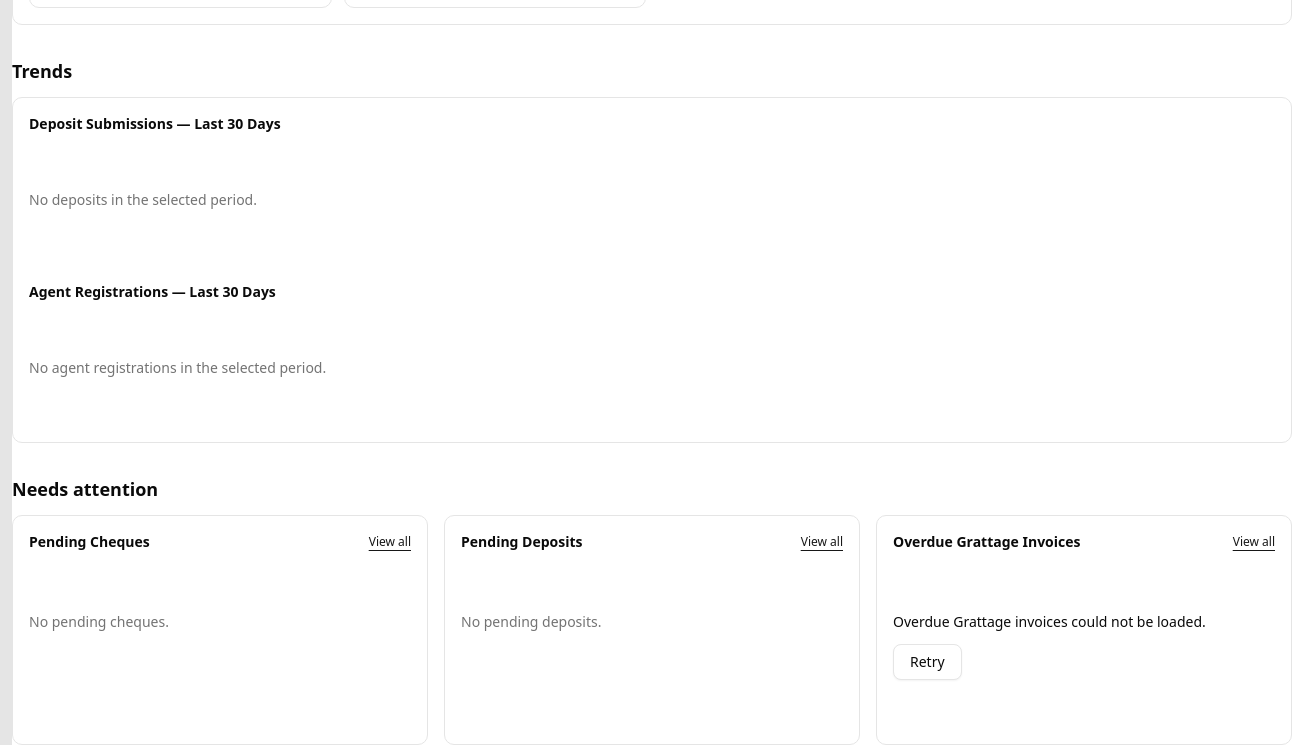
Test: Overdue Grattage Invoices widget › shows a retryable error state and recovers
(page scrolled)
What coordinates should you click on to do the following:
click the button "Retry"
I would click on:
 (927, 662)
Its box is [893,644,962,680].
(page scrolled)
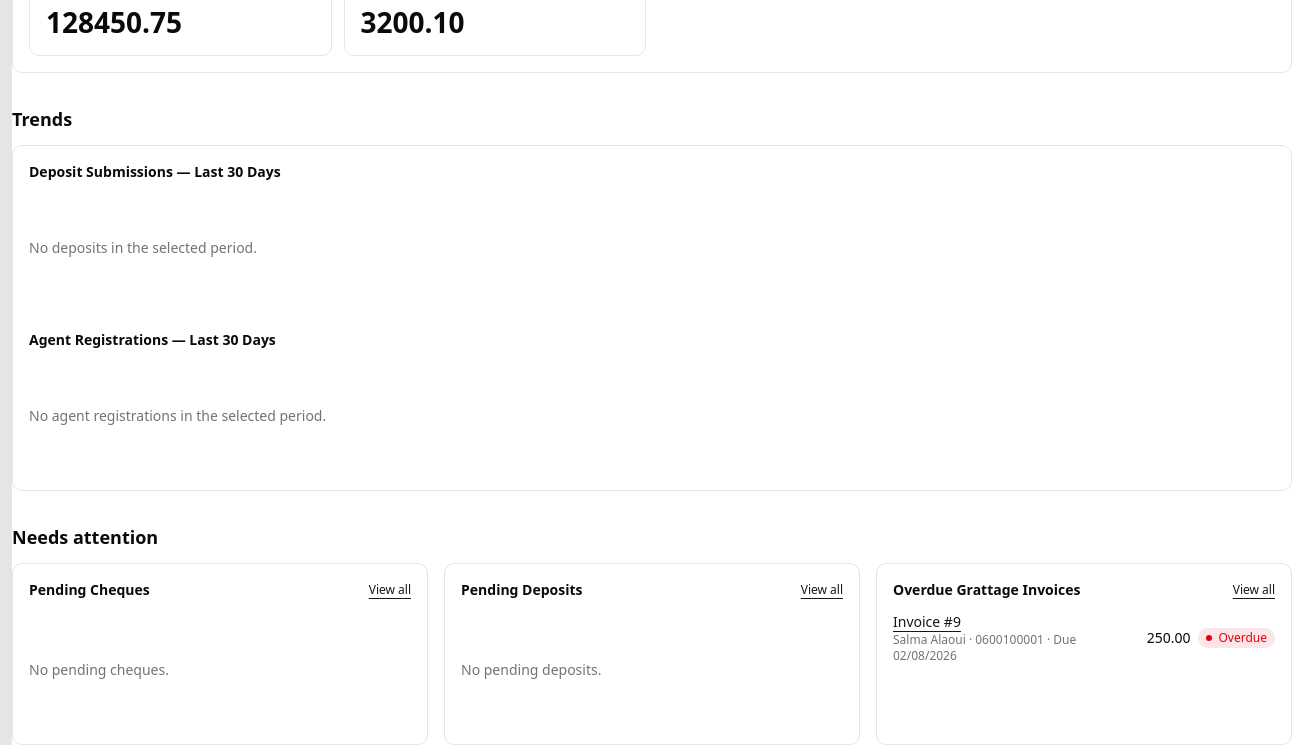
Check: the link "Invoice #9" is shown, box [893,612,961,631]
